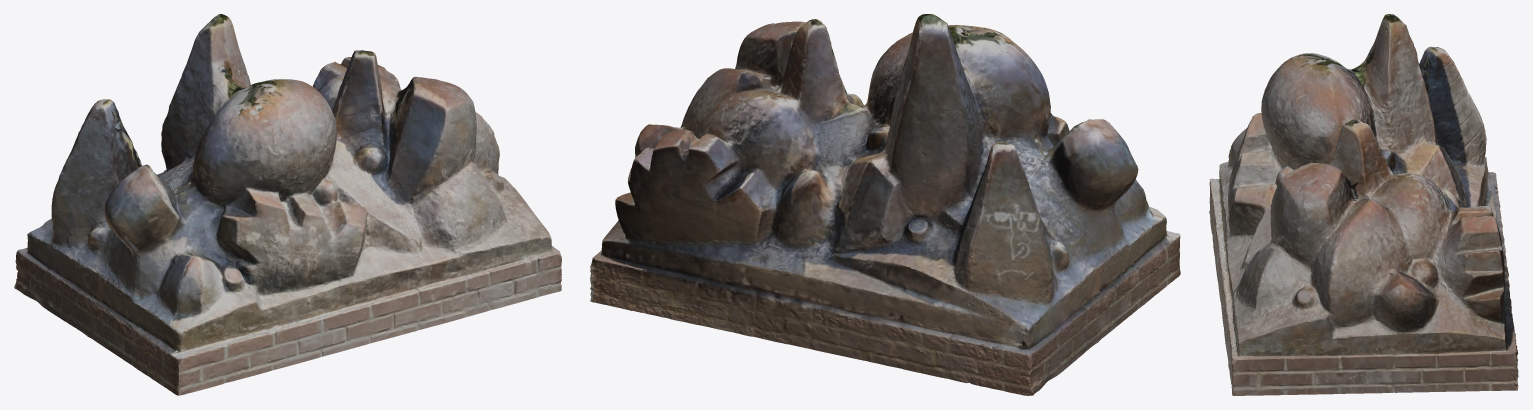
3 renders of one model, left to right at view 1: azimuth 30°, elevation 25°; view 2: azimuth 150°, elevation 25°; view 3: azimuth 270°, elevation 25°, orthographic. The views are drawn at different scales.
Visible parts, largest first — view 1: 1k.25k; view 2: 1k.25k; view 3: 1k.25k.
Boxes of the visible parts, bbox=[...] form: 1k.25k: bbox=[14, 14, 561, 395]; 1k.25k: bbox=[590, 14, 1180, 395]; 1k.25k: bbox=[1209, 14, 1518, 395].
Bounding box in the file's own units: 3.07 × 1.96 × 2.1.
Materials: 1 (1 with a texture image).
